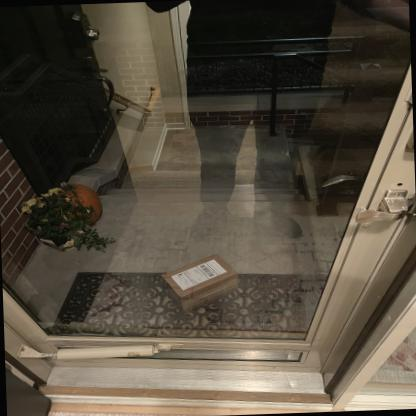box: (161, 253, 239, 314)
